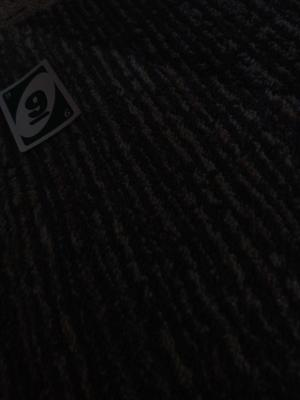green: (12, 87, 63, 118)
